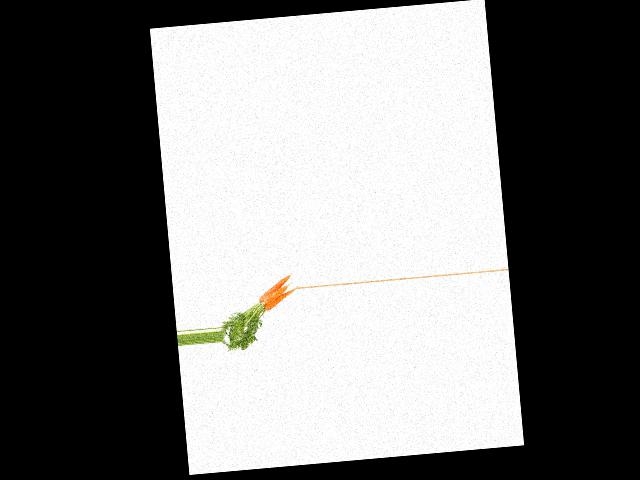carrot: (263, 287, 296, 312)
